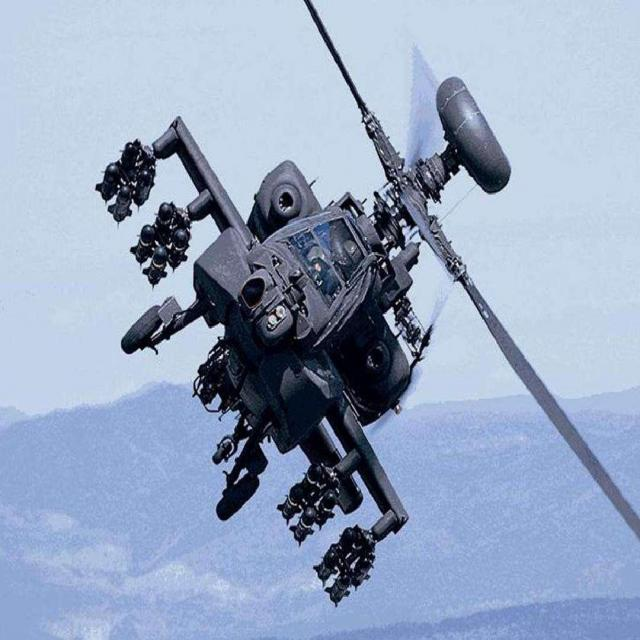MIL_HELO: (92, 0, 640, 601)
